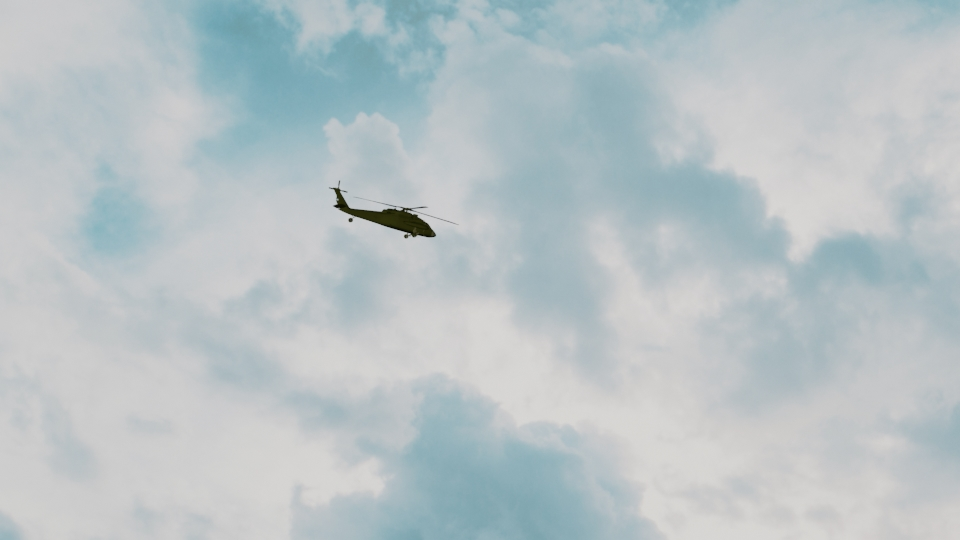heli: (328, 180, 437, 240)
